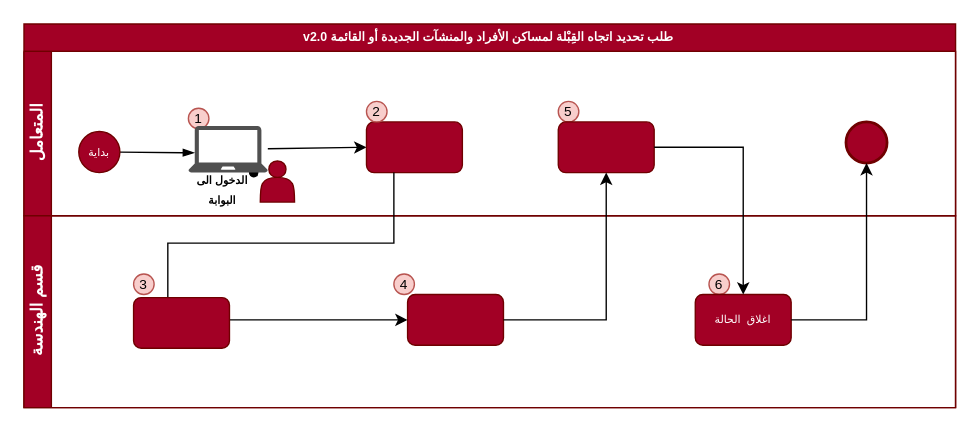
Image size: 980x432. Some labels were removed from this diagram. Here are the shapes that lost their labels. From the top down, the centre of each, then its label:
the point at 413,147: تعبئة و تقديم الطلب
the point at 605,147: ارسال موعد الى العميل
the point at 866,142: اغلاق
the point at 180,322: تعيين موظف
the point at 454,319: تحديد موعد
